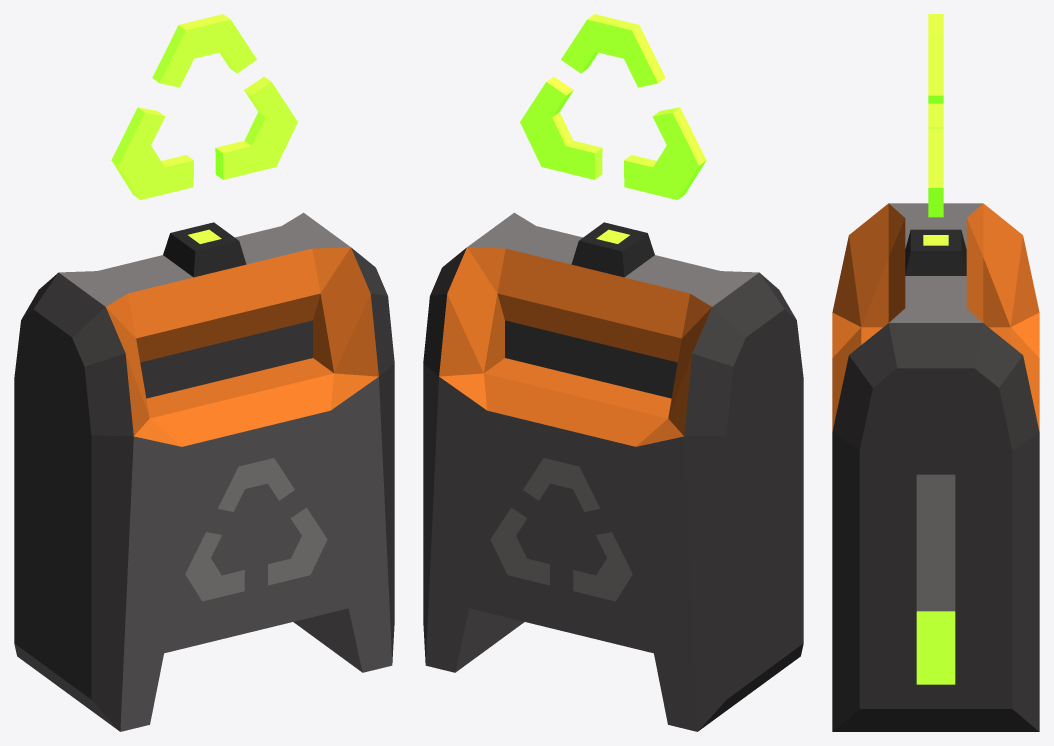
File: scifi-scifi-bin-medium.glb
3 views of the same model, side by side, from view 1: azimuth 30°, elevation 25°; view 2: azimuth 150°, elevation 25°; view 3: azimuth 270°, elevation 25° (orthographic).
Parts seen in each view (by area): view 1: scifi-bin-medium; view 2: scifi-bin-medium; view 3: scifi-bin-medium.
Boxes of the visible parts, bbox=[...] form: scifi-bin-medium: bbox=[14, 14, 394, 731]; scifi-bin-medium: bbox=[423, 14, 803, 731]; scifi-bin-medium: bbox=[832, 14, 1039, 731].
Bounding box in the file's own units: 0.9392 × 1.89 × 0.553.
